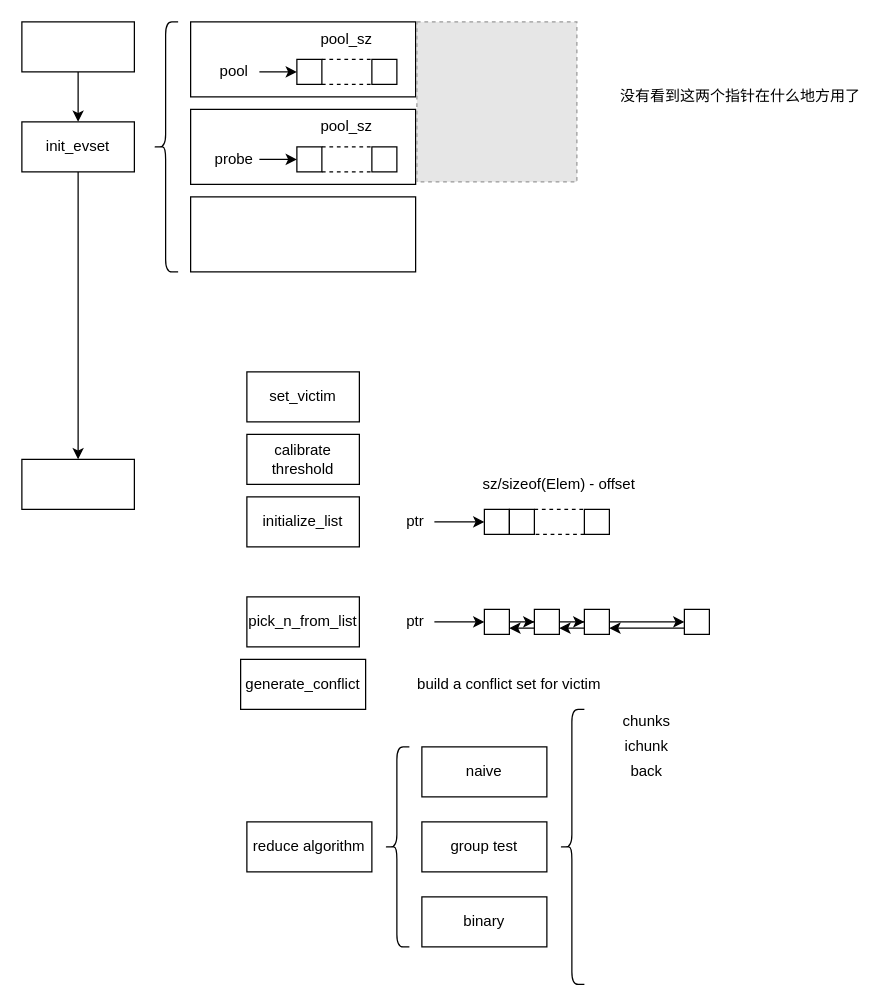
The diagram is 894 pixels wide and 1006 high, and some of its shapes have lost their labels. Grey dashed boxes stand in for pictures. The shapes that lost their labels are listed below. From the top down, each one's centre as x and y in pixels, then its label:
At point (77, 46): "Configuration".
At point (302, 234): "conf.traverse()".
At point (77, 483): "find_evset".
